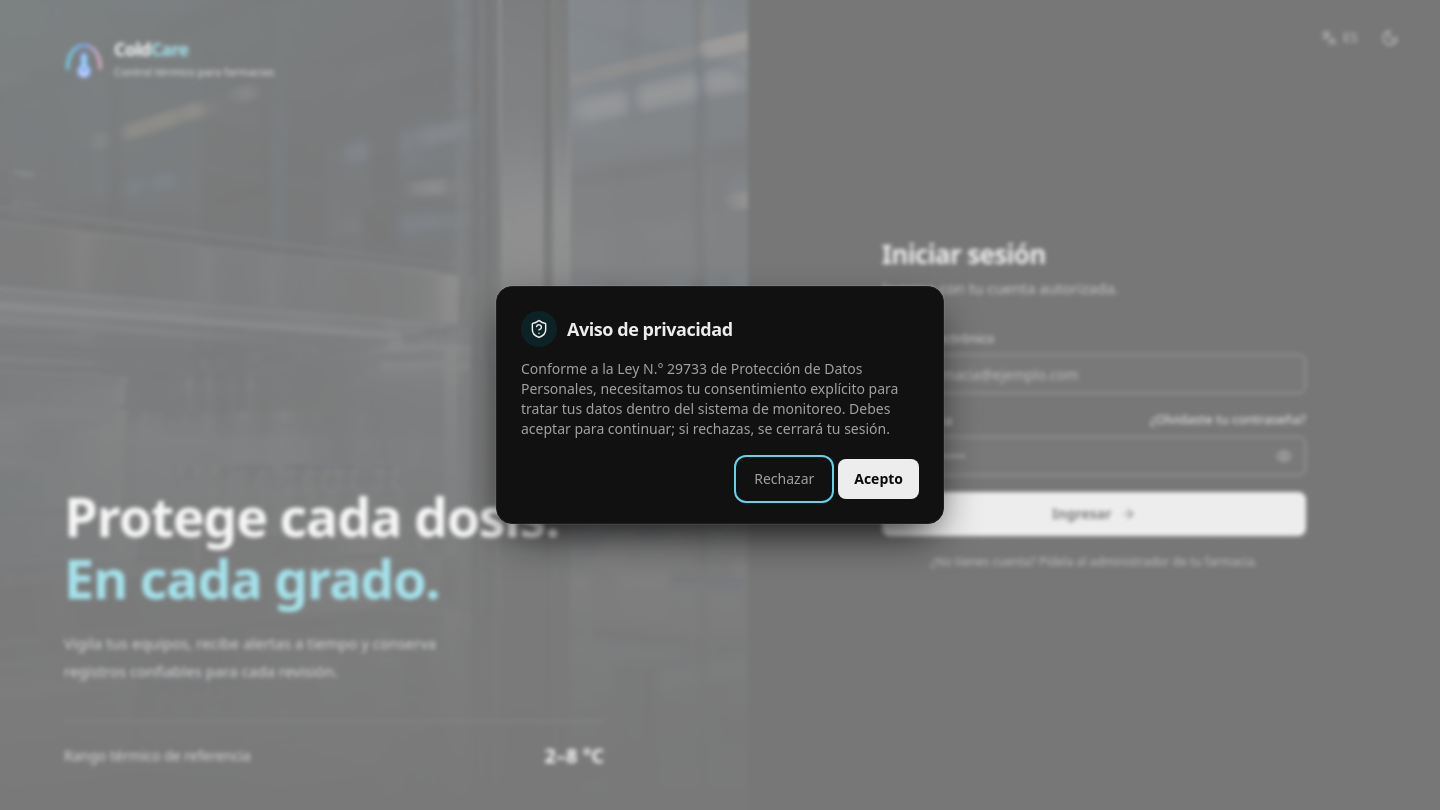
Test: Consentimiento de privacidad › aceptar lo registra en el backend y cierra el aviso
Click the button "Acepto": (879, 479) [838, 459, 919, 499]
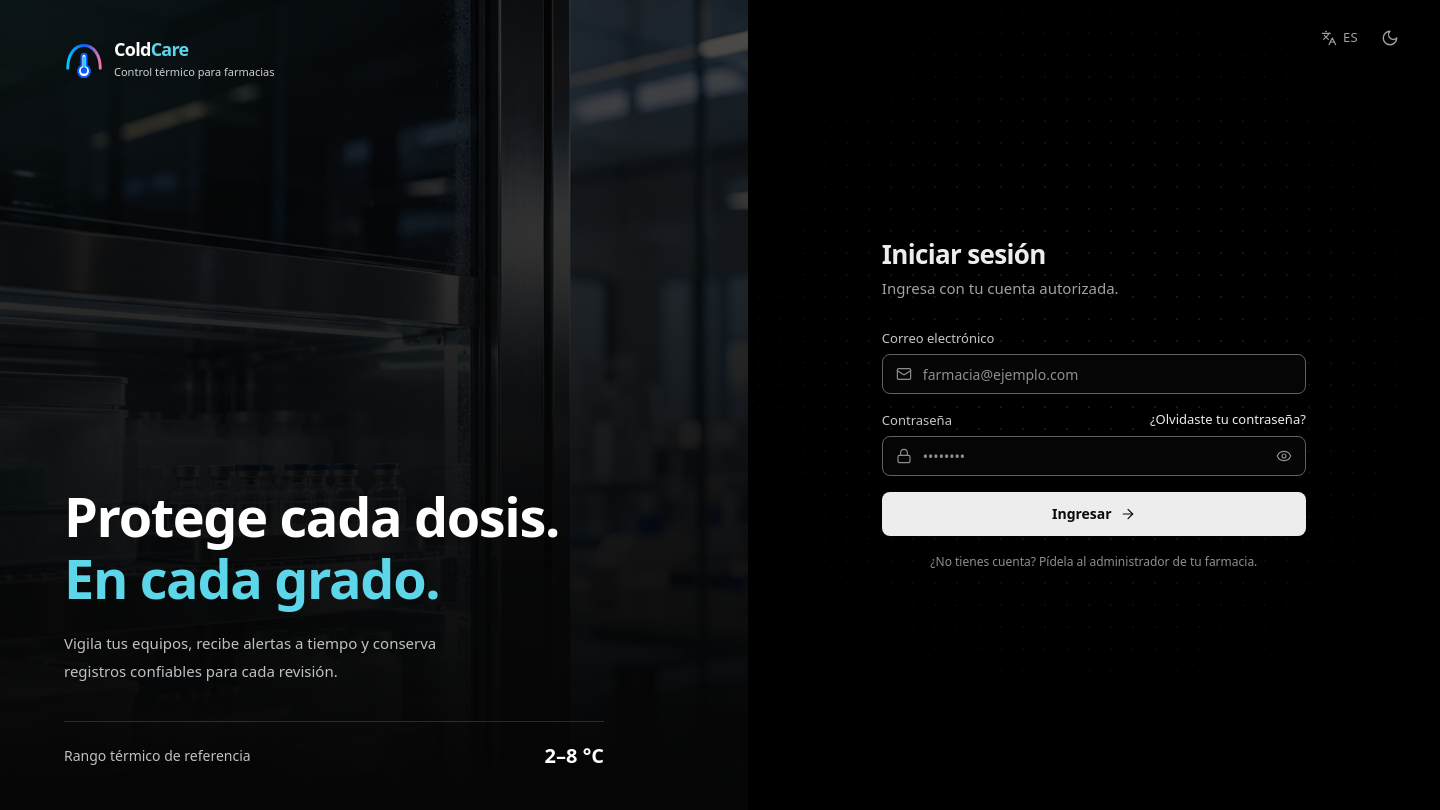
Expected: the heading "Aviso de privacidad" is gone
